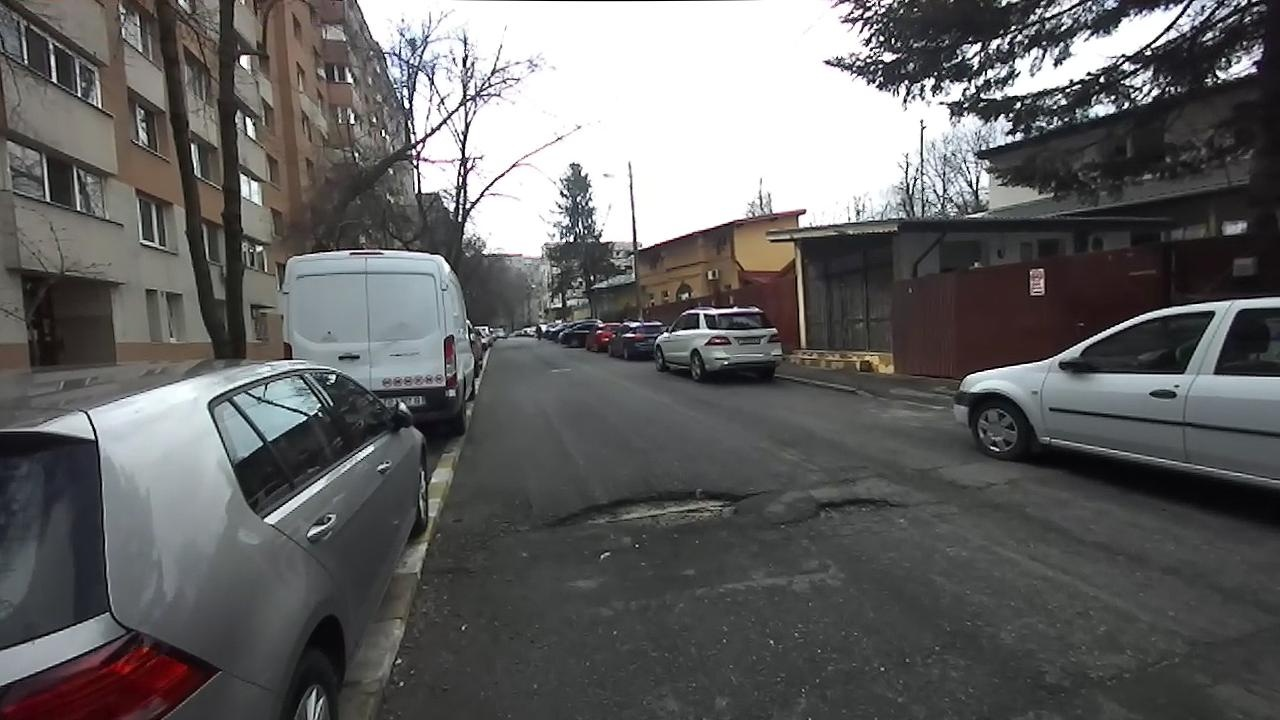pothole: (531, 483, 768, 538), (774, 493, 907, 528)
